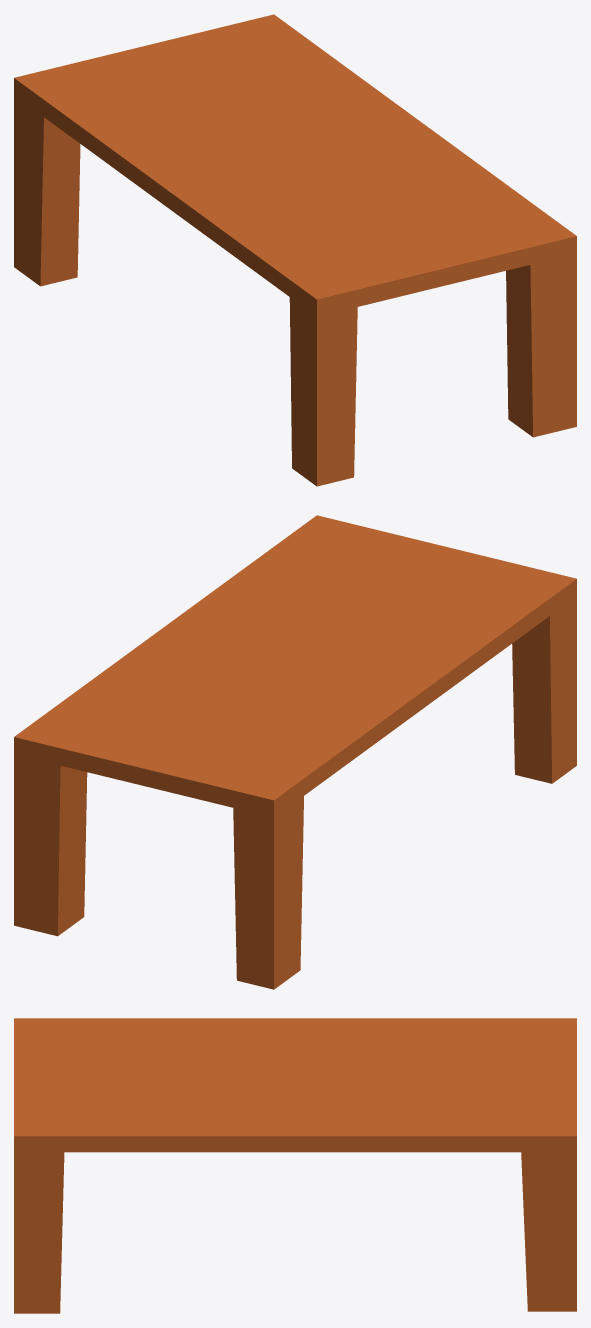
Rendered from tisch.dae.
3 renders of one model, top to bottom at view 1: azimuth 30°, elevation 25°; view 2: azimuth 150°, elevation 25°; view 3: azimuth 270°, elevation 25°, orthographic. The views are drawn at different scales.
Parts seen in each view (by area): view 1: Cube; view 2: Cube; view 3: Cube.
Part boxes in pixels (left/top/right/bottom): Cube: left=14, top=14, right=576, bottom=486; Cube: left=14, top=515, right=576, bottom=989; Cube: left=14, top=1018, right=576, bottom=1313.
Bounding box in the file's own units: 1.3 × 2.62 × 0.9103.
